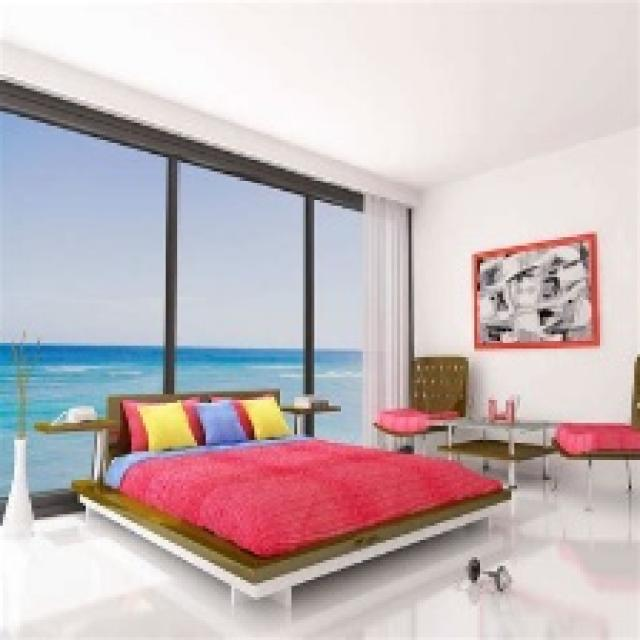Bed: (49, 388, 514, 612)
